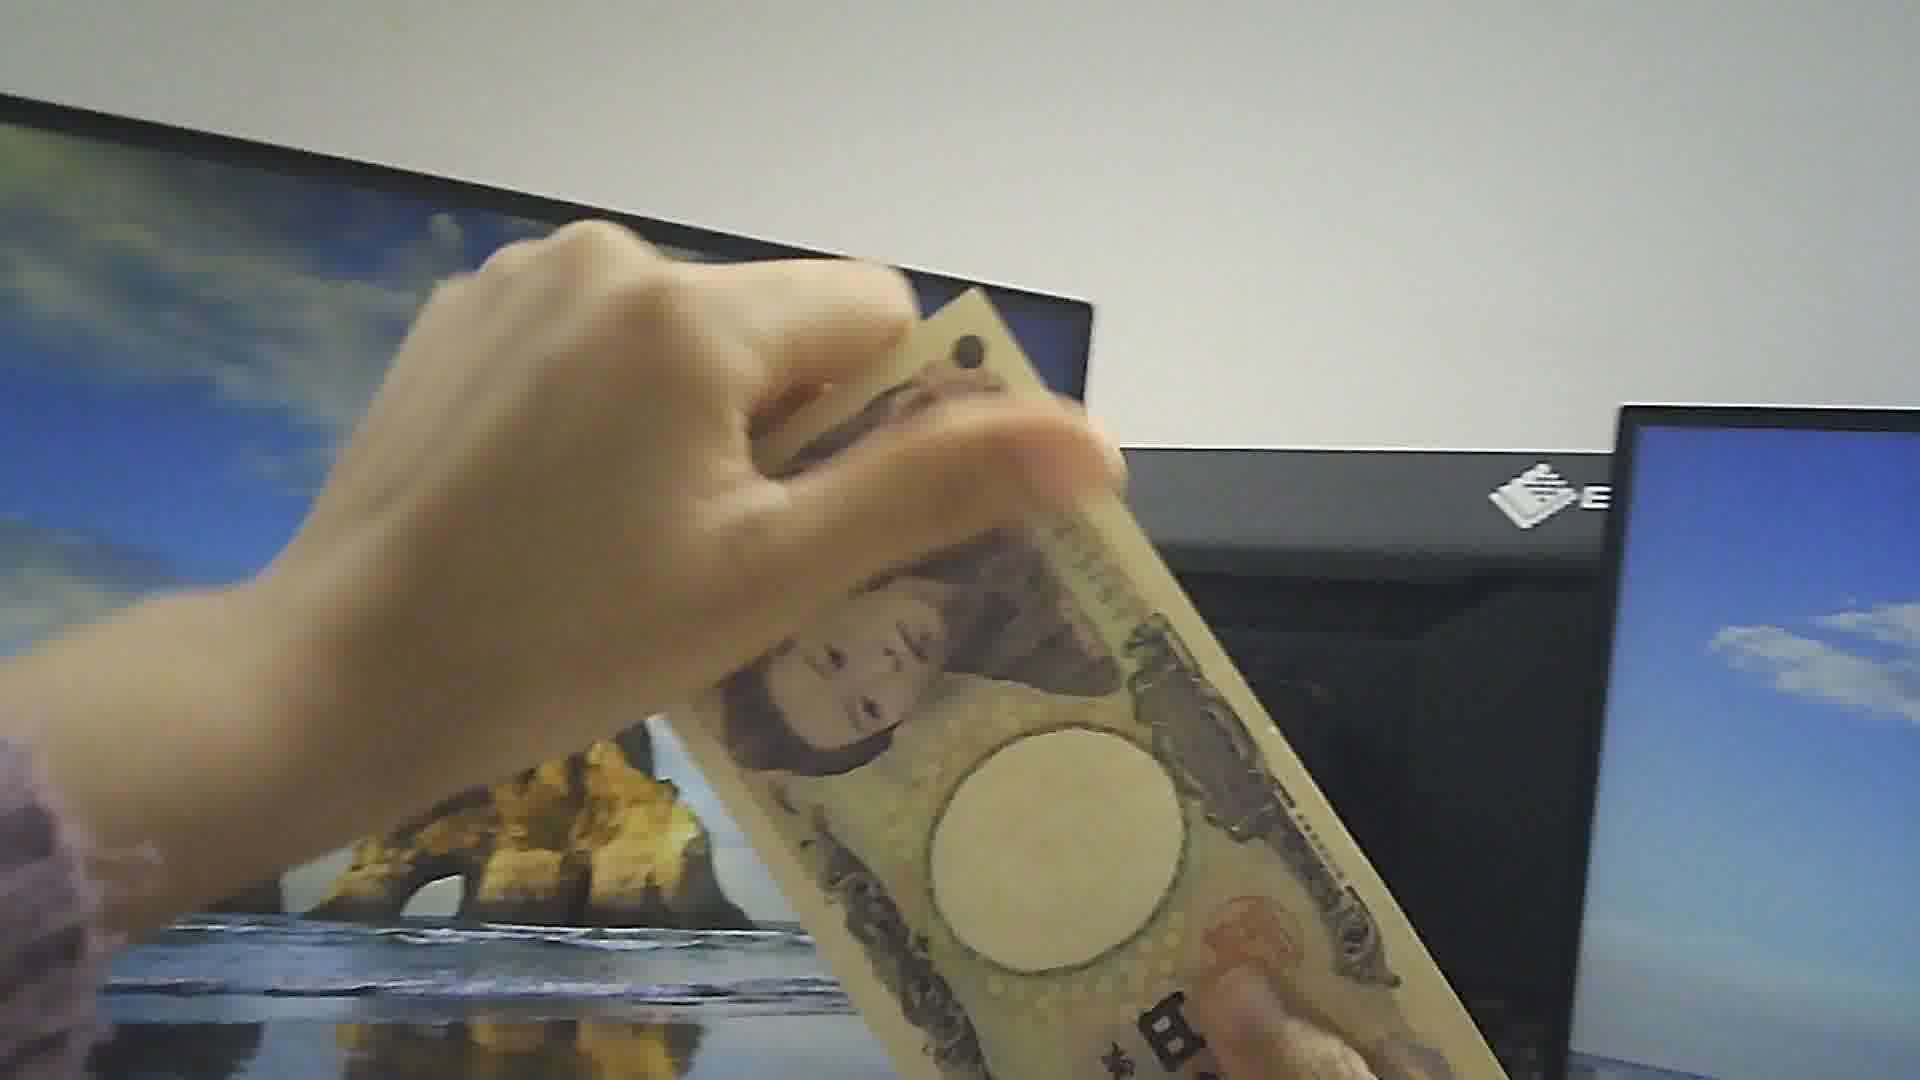5,000 Yen: (671, 287, 1527, 1079)
